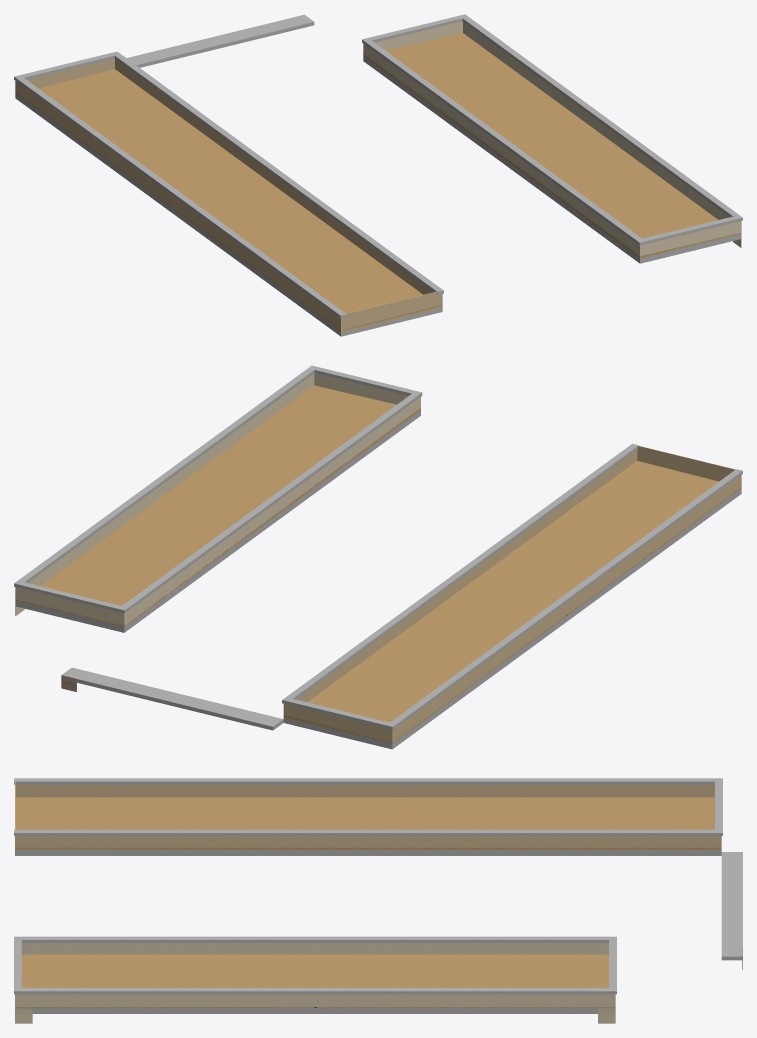
File: roof-bundle-service-south.glb
3 renders of one model, top to bottom at view 1: azimuth 30°, elevation 25°; view 2: azimuth 150°, elevation 25°; view 3: azimuth 270°, elevation 25°, orthographic. The views are drawn at different scales.
Parts seen in each view (by area): view 1: bz06_faded_ochre-receive, ph_bz04_stone_trim_sandstone-cast, bz06_sand_plaster-cast, bz06_pale_lime-cast; view 2: bz06_faded_ochre-receive, ph_bz04_stone_trim_sandstone-cast, bz06_sand_plaster-cast, bz06_pale_lime-cast; view 3: bz06_faded_ochre-receive, ph_bz04_stone_trim_sandstone-cast, bz06_sand_plaster-cast, bz06_pale_lime-cast.
Boxes of the visible parts, box(x1,y1,x2,y2) form: bz06_faded_ochre-receive: box(15, 33, 740, 330); ph_bz04_stone_trim_sandstone-cast: box(14, 14, 742, 336); bz06_sand_plaster-cast: box(15, 58, 442, 333); bz06_pale_lime-cast: box(363, 15, 741, 257); bz06_faded_ochre-receive: box(15, 385, 741, 743); ph_bz04_stone_trim_sandstone-cast: box(14, 365, 742, 749); bz06_sand_plaster-cast: box(283, 444, 741, 743); bz06_pale_lime-cast: box(15, 366, 420, 626); bz06_faded_ochre-receive: box(15, 797, 721, 1008); ph_bz04_stone_trim_sandstone-cast: box(14, 778, 742, 1013); bz06_sand_plaster-cast: box(15, 778, 721, 851); bz06_pale_lime-cast: box(15, 943, 615, 1023).
Size of the model in its own units: 14.26 by 1.03 by 20.63.
6 materials, 5 textured.
